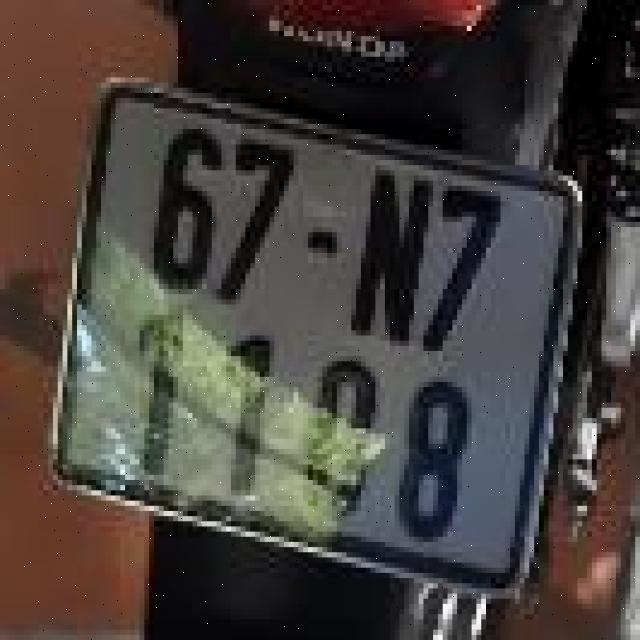1: (127, 310, 195, 485), (219, 325, 277, 511)
6: (150, 118, 222, 304)
7: (430, 168, 508, 358), (222, 126, 298, 312)
8: (303, 348, 385, 534), (394, 367, 476, 552)
N: (346, 155, 438, 356)
